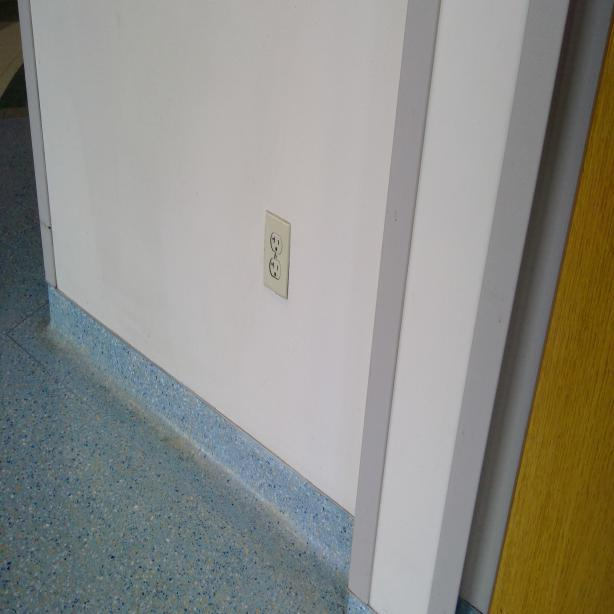typeb: (268, 230, 282, 254), (269, 258, 281, 284)
